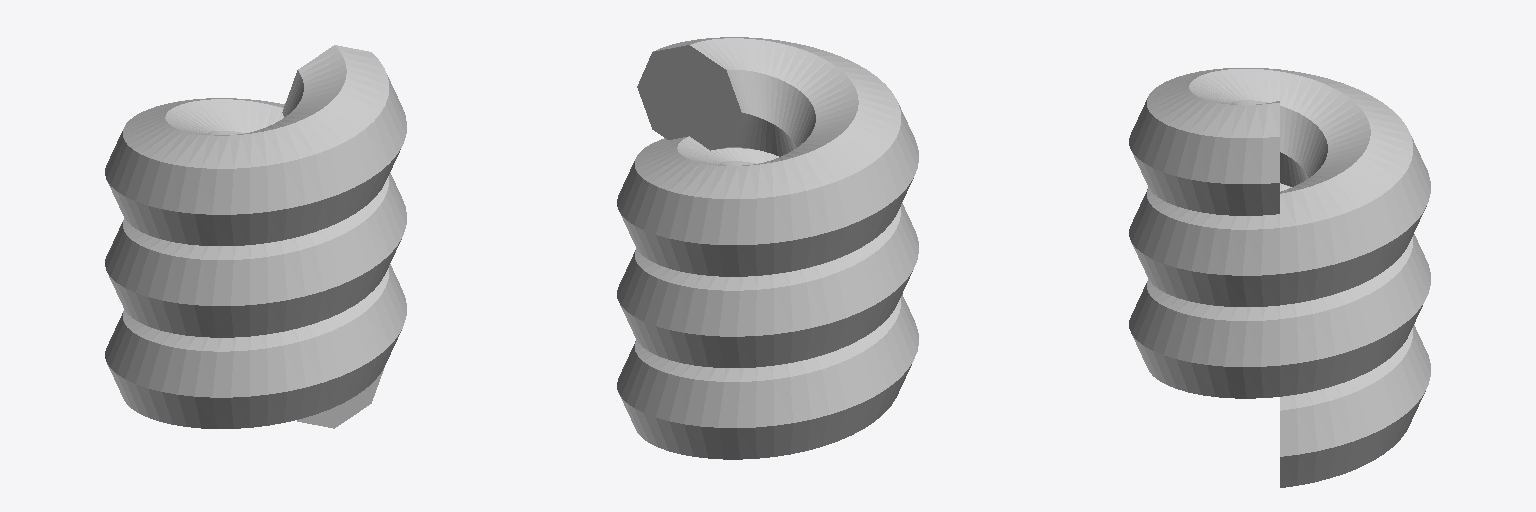
File: helix.obj
3 views of the same model, side by side, from view 1: azimuth 30°, elevation 25°; view 2: azimuth 150°, elevation 25°; view 3: azimuth 270°, elevation 25° (orthographic).
Size of the model in its own units: 2 by 2.8 by 2.